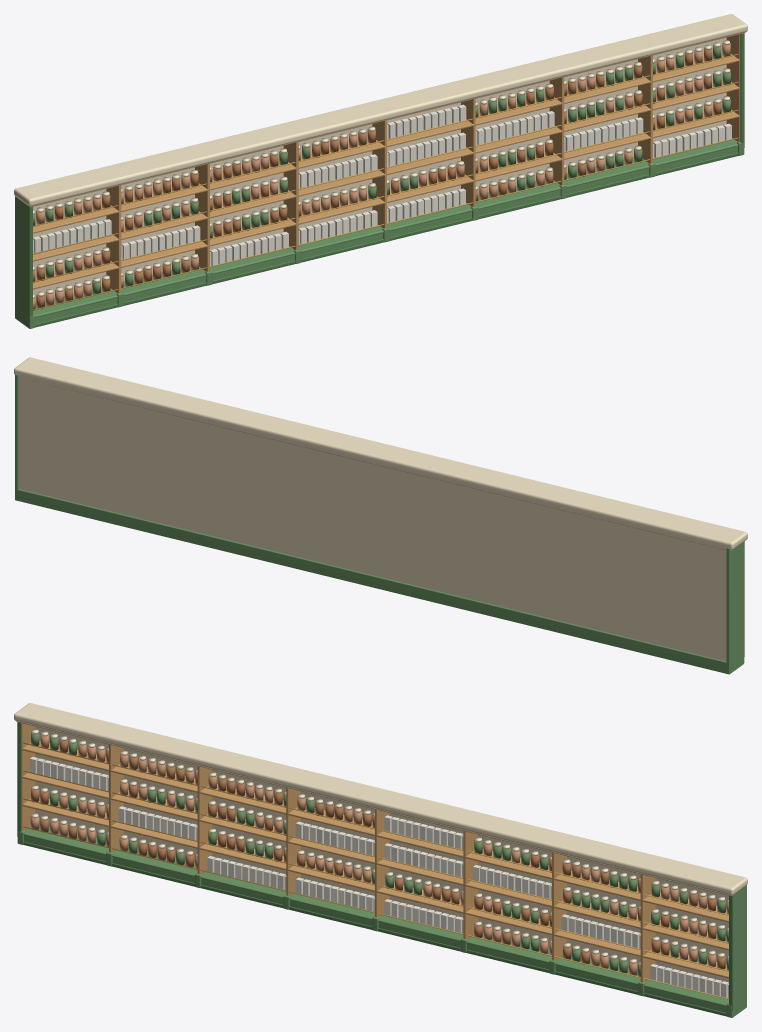
File: wall_shelving.glb
The picture shows the model from 3 angles, top to bottom: view 1: azimuth 30°, elevation 25°; view 2: azimuth 150°, elevation 25°; view 3: azimuth 330°, elevation 25°; orthographic projection.
Visible parts, largest first — view 1: TopCap, Back, Plinth, Shelf3, Shelf1, Shelf2, PlinthToe, PlinthLip, EndPanel-1, Rod1.37, Rod0.57, Rod0.17 (+14 smaller); view 2: Back, TopCap, Plinth, EndPanel-1, TopCapBand; view 3: TopCap, Back, Plinth, Shelf3, Shelf1, Shelf2, PlinthToe, PlinthLip, EndPanel1, Rod1.37, Rod0.57, Rod0.17 (+14 smaller).
Boxes of the visible parts, <box> form: TopCap: <box>14,14,747,206</box>; Back: <box>33,37,726,302</box>; Plinth: <box>33,138,737,323</box>; Shelf3: <box>33,52,739,233</box>; Shelf1: <box>33,108,739,289</box>; Shelf2: <box>33,79,739,261</box>; PlinthToe: <box>35,152,738,327</box>; PlinthLip: <box>35,144,738,317</box>; EndPanel-1: <box>15,196,29,328</box>; Rod1.37: <box>33,53,738,226</box>; Rod0.57: <box>33,109,738,282</box>; Rod0.17: <box>33,137,738,310</box>; Back: <box>18,374,726,661</box>; TopCap: <box>14,357,747,549</box>; Plinth: <box>17,489,726,673</box>; EndPanel-1: <box>726,542,743,674</box>; TopCapBand: <box>19,377,744,551</box>; TopCap: <box>14,703,747,895</box>; Back: <box>35,726,728,982</box>; Plinth: <box>24,824,728,1012</box>; Shelf3: <box>22,740,728,922</box>; Shelf1: <box>22,796,728,978</box>; Shelf2: <box>22,771,728,950</box>; PlinthToe: <box>23,841,726,1016</box>; PlinthLip: <box>23,833,726,1006</box>; EndPanel1: <box>732,885,746,1017</box>; Rod1.37: <box>23,742,728,915</box>; Rod0.57: <box>23,798,728,971</box>; Rod0.17: <box>23,826,728,999</box>.
Size of the model in its own units: 10.81 by 1.88 by 0.445.
